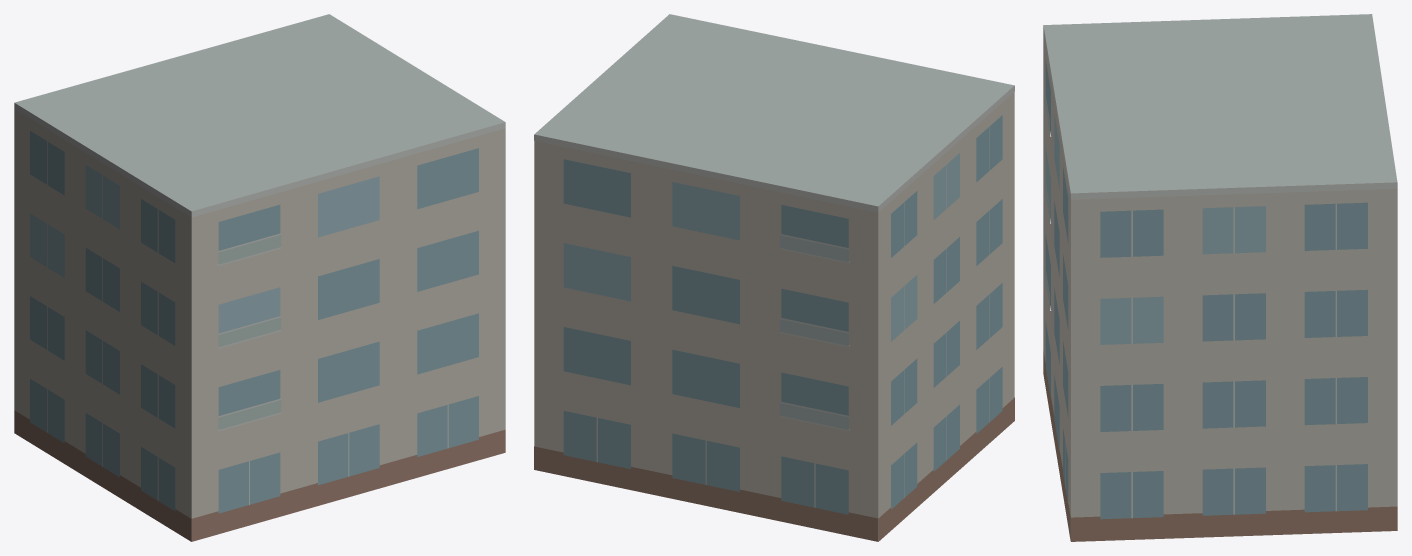
The model's file is survey-upis-32621857.glb.
The picture shows the model from 3 angles, left to right: view 1: azimuth 30°, elevation 25°; view 2: azimuth 150°, elevation 25°; view 3: azimuth 270°, elevation 25°; orthographic projection. The views are drawn at different scales.
Visible parts, largest first — view 1: survey-upis-32621857.tmp; view 2: survey-upis-32621857.tmp; view 3: survey-upis-32621857.tmp.
Part boxes in pixels (x1,y1,x2,y2): survey-upis-32621857.tmp: [14, 14, 505, 541]; survey-upis-32621857.tmp: [534, 14, 1014, 541]; survey-upis-32621857.tmp: [1043, 14, 1397, 541].
Size of the model in its own units: 14.58 by 13.2 by 12.17.
